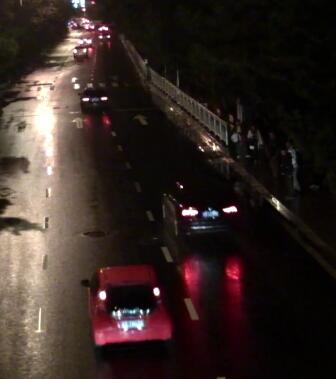car: (80, 263, 172, 354), (158, 175, 239, 238), (76, 84, 108, 107), (71, 41, 91, 59), (96, 31, 111, 42)
